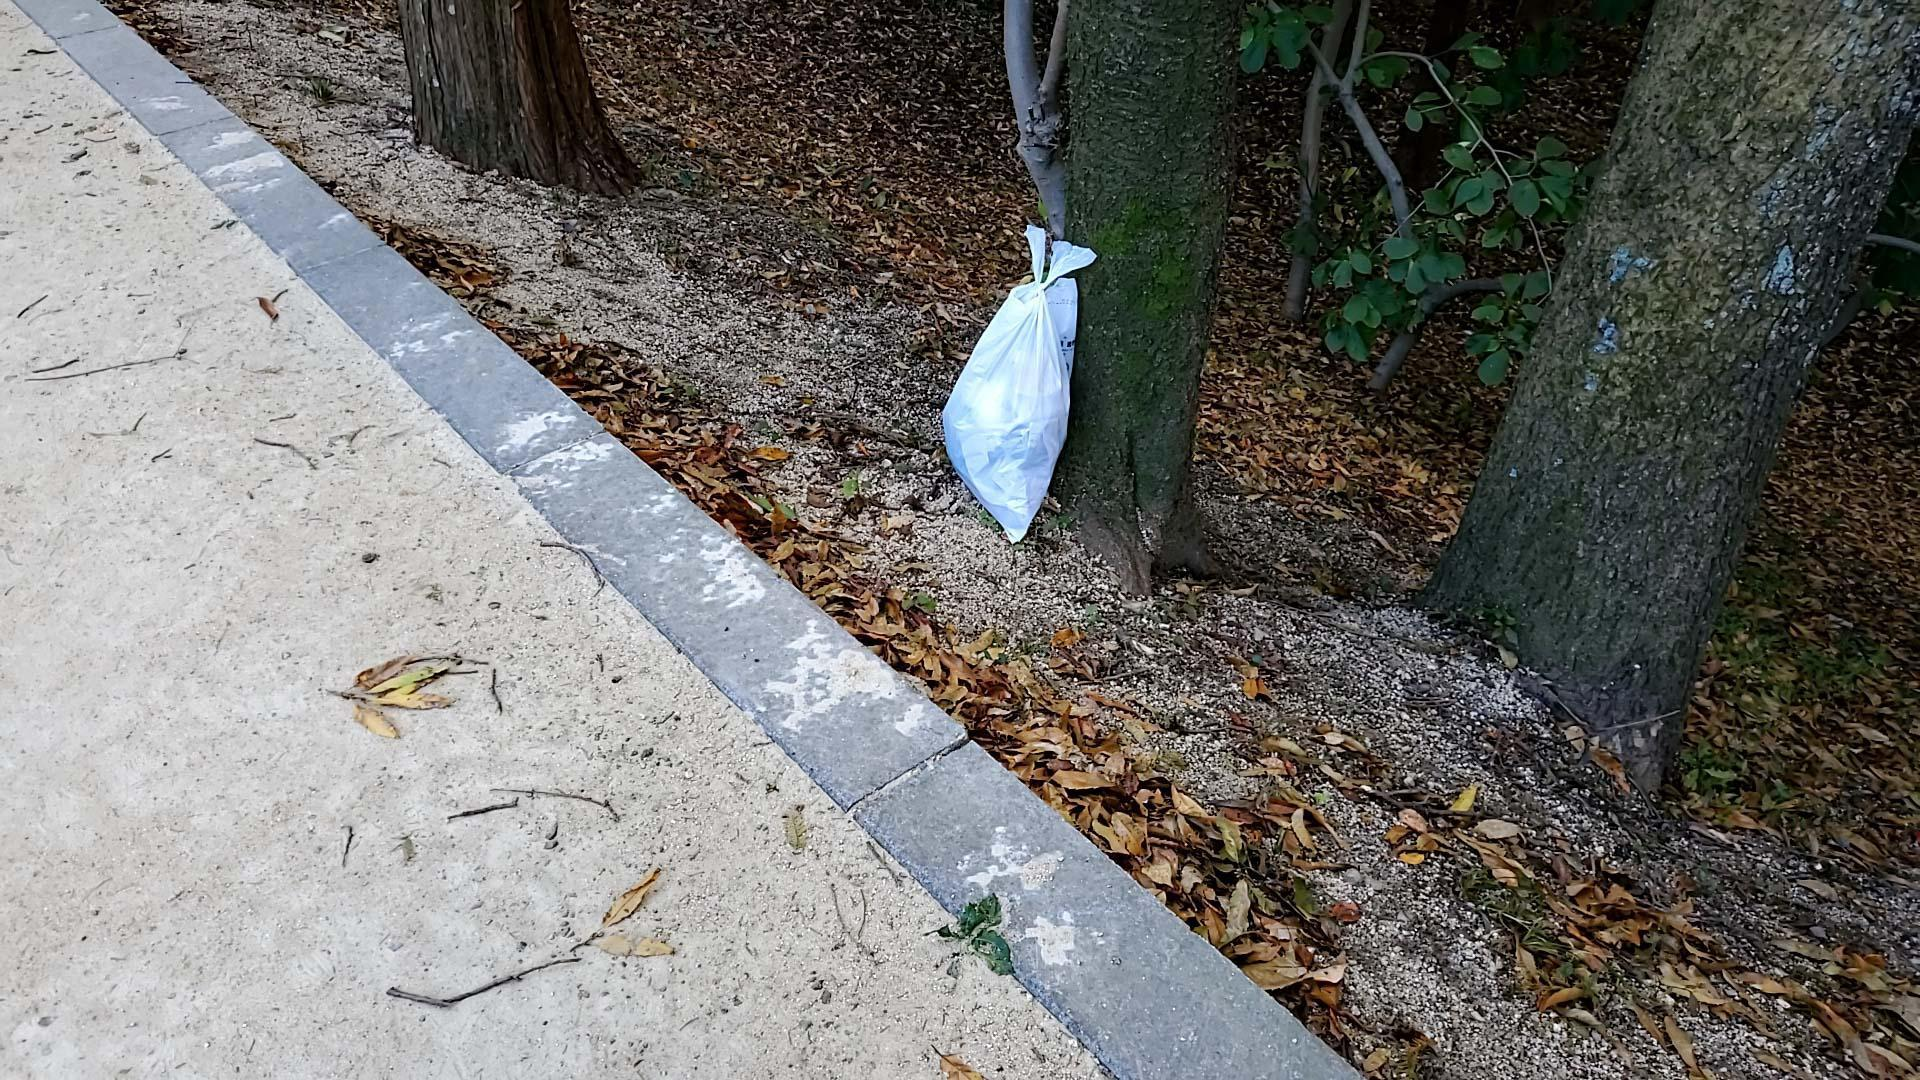white_bag: (922, 214, 1112, 564)
